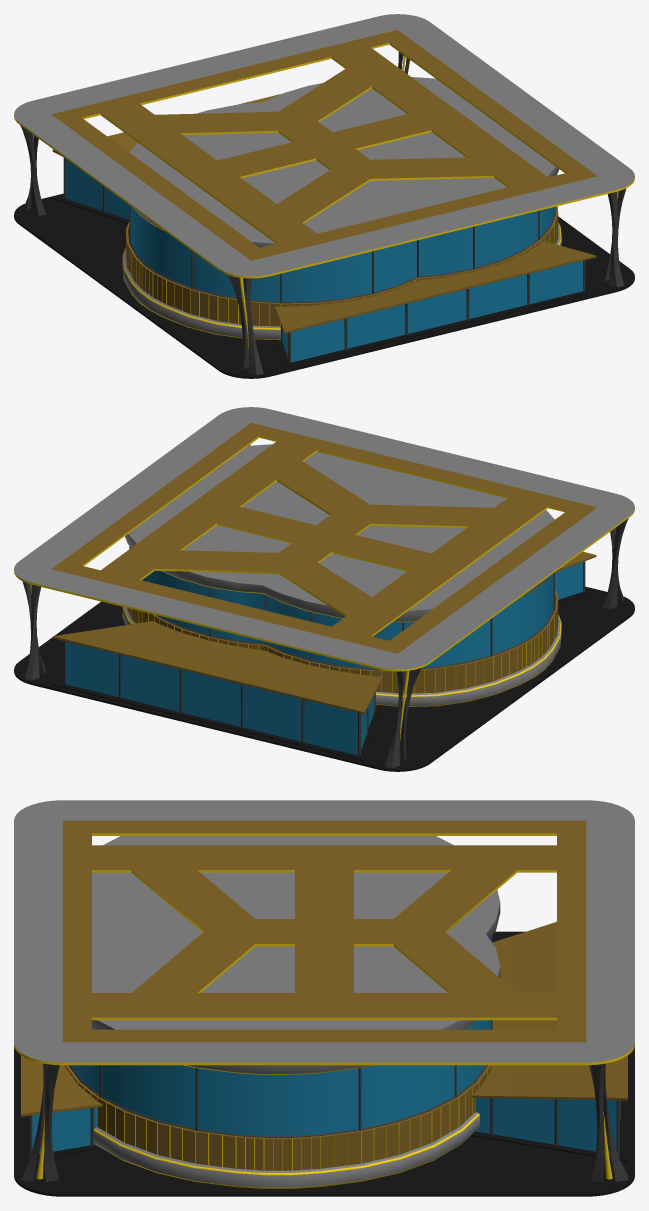
Rendered from SM_MK13_Middle_001.fbx.
The picture shows the model from 3 angles, top to bottom: view 1: azimuth 30°, elevation 25°; view 2: azimuth 150°, elevation 25°; view 3: azimuth 270°, elevation 25°; orthographic projection. The views are drawn at different scales.
Parts seen in each view (by area): view 1: SM_MK13_Middle_001; view 2: SM_MK13_Middle_001; view 3: SM_MK13_Middle_001.
Part boxes in pixels (x1,y1,x2,y2): SM_MK13_Middle_001: [14, 14, 634, 378]; SM_MK13_Middle_001: [14, 407, 634, 771]; SM_MK13_Middle_001: [14, 800, 634, 1196].
Bounding box in the file's own units: 2100 × 500 × 2100.
